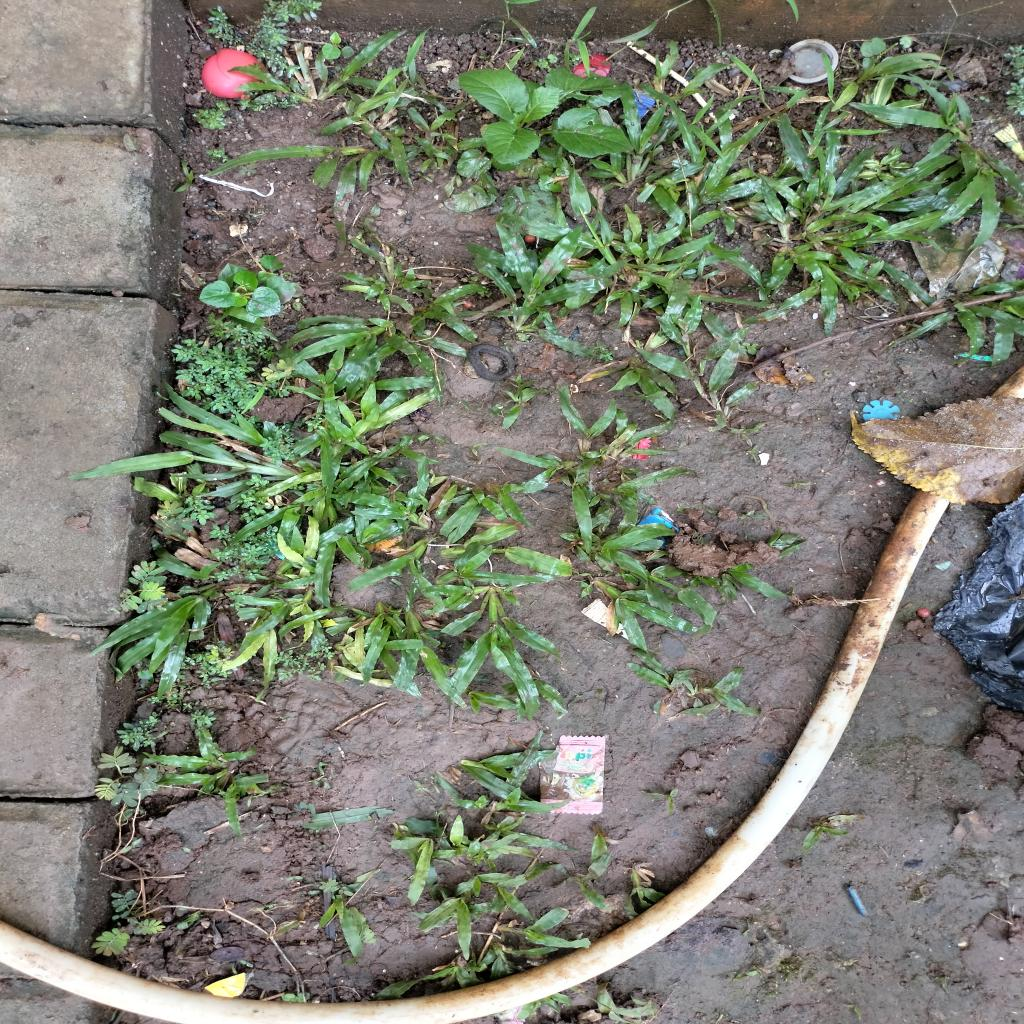bayi: (978, 95, 993, 104)
buah daun: (86, 886, 168, 960), (93, 744, 165, 810), (104, 558, 172, 615), (202, 638, 236, 664)
lumut besar: (164, 310, 274, 426), (200, 0, 323, 78), (210, 522, 282, 585), (271, 631, 339, 685), (232, 470, 280, 528), (114, 714, 172, 754), (258, 422, 302, 467), (189, 99, 234, 132), (181, 489, 220, 526), (190, 704, 222, 732), (201, 145, 233, 165)
masker: (544, 179, 566, 195), (902, 83, 922, 99), (899, 34, 913, 49), (547, 53, 559, 64)
rambat atas: (723, 53, 812, 113), (370, 24, 436, 99), (797, 113, 893, 158), (688, 91, 728, 163), (561, 5, 600, 78), (809, 48, 840, 138), (501, 0, 539, 53)
rambat bawah: (50, 376, 302, 511), (418, 582, 572, 726), (463, 218, 616, 362), (487, 153, 634, 284), (200, 142, 374, 251), (84, 580, 230, 704), (634, 292, 760, 430), (793, 228, 944, 342), (140, 724, 276, 842), (900, 144, 1024, 257), (846, 69, 976, 171), (803, 116, 915, 232), (282, 314, 422, 406), (316, 384, 447, 460), (584, 574, 700, 656), (923, 278, 1024, 368), (318, 454, 433, 532), (562, 521, 680, 596), (621, 226, 755, 290), (434, 522, 579, 580), (390, 607, 470, 710), (315, 23, 410, 102), (222, 584, 320, 659), (577, 354, 683, 423), (610, 80, 672, 190), (583, 404, 689, 462), (346, 537, 436, 604), (371, 950, 481, 1002), (460, 746, 559, 802), (346, 232, 433, 295), (440, 817, 549, 867), (592, 464, 703, 512), (679, 152, 761, 216), (437, 540, 550, 586), (555, 381, 619, 459), (686, 658, 765, 721), (387, 816, 438, 908), (358, 596, 409, 686), (414, 891, 478, 962), (495, 904, 592, 950), (568, 830, 619, 915), (742, 172, 803, 242), (492, 444, 581, 490), (334, 270, 418, 317), (273, 344, 347, 396), (470, 941, 564, 981), (623, 645, 695, 697), (221, 64, 315, 103), (483, 480, 554, 530), (446, 788, 572, 816), (621, 857, 671, 921), (371, 123, 417, 191), (348, 500, 406, 548), (406, 104, 458, 151), (491, 874, 540, 922), (798, 821, 855, 856), (646, 38, 681, 94), (582, 151, 629, 190), (450, 871, 514, 898), (466, 686, 518, 717), (634, 786, 684, 817), (412, 135, 436, 172)
